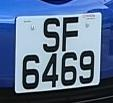4: (39, 52, 62, 92)
6: (19, 53, 42, 92), (59, 52, 79, 88)
9: (78, 48, 98, 87)
F: (60, 12, 82, 57)
S: (38, 17, 63, 54)
